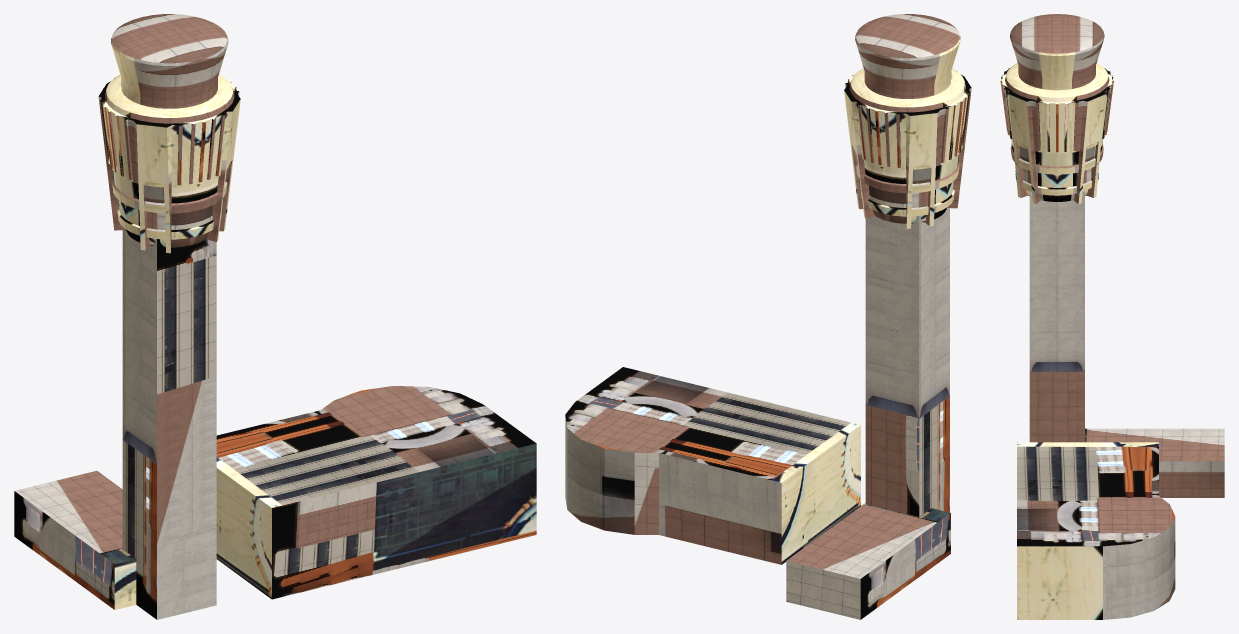
File: Tower.exact.glb
3 views of the same model, side by side, from view 1: azimuth 30°, elevation 25°; view 2: azimuth 150°, elevation 25°; view 3: azimuth 270°, elevation 25° (orthographic). The views are drawn at different scales.
Visible parts, largest first — view 1: Tower; view 2: Tower; view 3: Tower.
Part boxes in pixels (x1,y1,x2,y2): Tower: (14, 14, 536, 619); Tower: (565, 14, 971, 619); Tower: (1000, 14, 1224, 619).
Bounding box in the file's own units: 73.85 × 99.21 × 44.19.
Materials: 1 (1 with a texture image).
